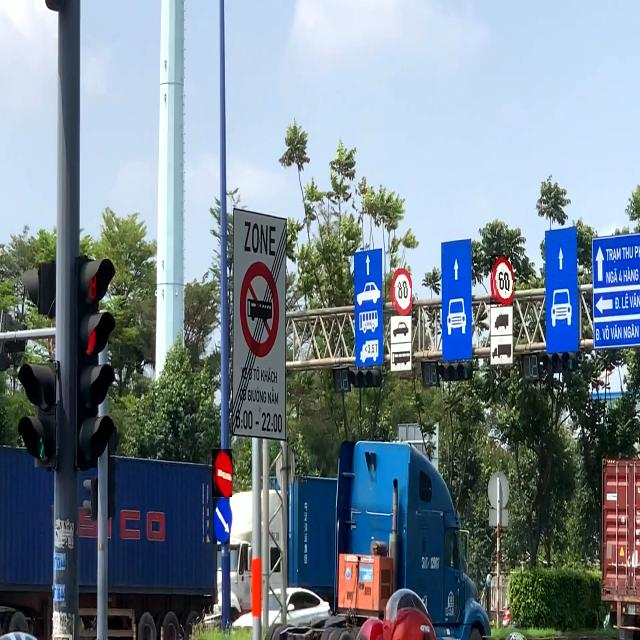18: (490, 255, 513, 305), (390, 266, 412, 316)
27: (213, 498, 233, 544)
bien_chi_dan: (212, 449, 232, 497)
